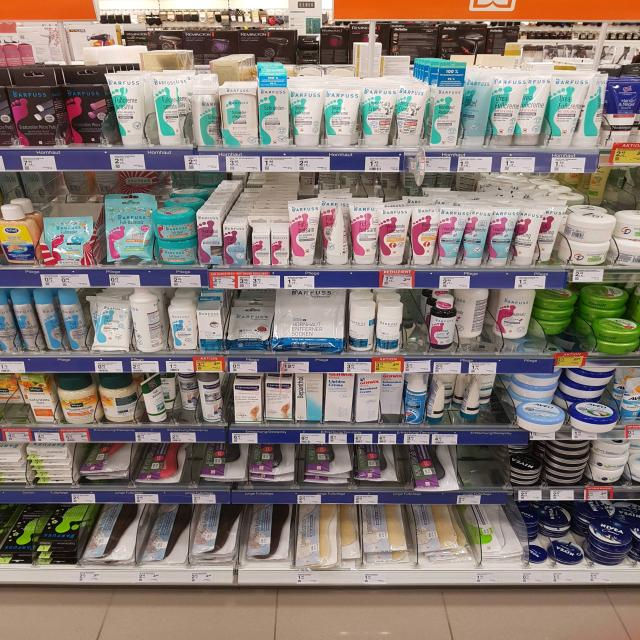unorganised: (432, 375, 491, 426), (129, 289, 165, 354), (498, 285, 534, 350), (581, 72, 609, 149), (464, 72, 491, 150), (540, 292, 580, 344), (97, 377, 139, 426), (322, 201, 352, 268), (456, 287, 491, 342), (515, 211, 540, 263), (143, 376, 167, 426), (2, 378, 30, 418), (542, 207, 562, 262), (174, 375, 197, 420), (381, 374, 403, 419)
